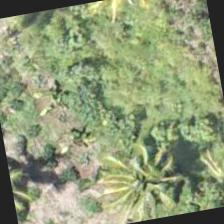Kelapa_Sawit: (92, 125, 198, 223), (175, 135, 223, 212)
